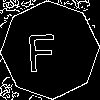F: (25, 25, 58, 72)
